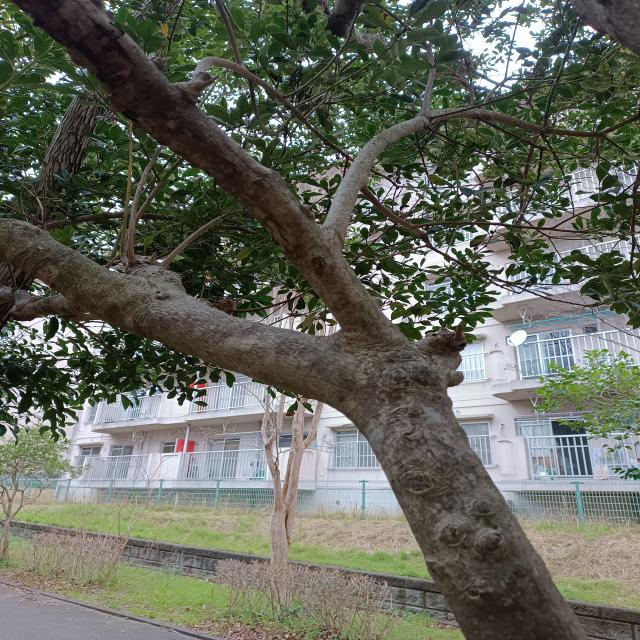Branch: (14, 3, 415, 341), (4, 217, 398, 407)
Twig: (323, 107, 604, 241)
